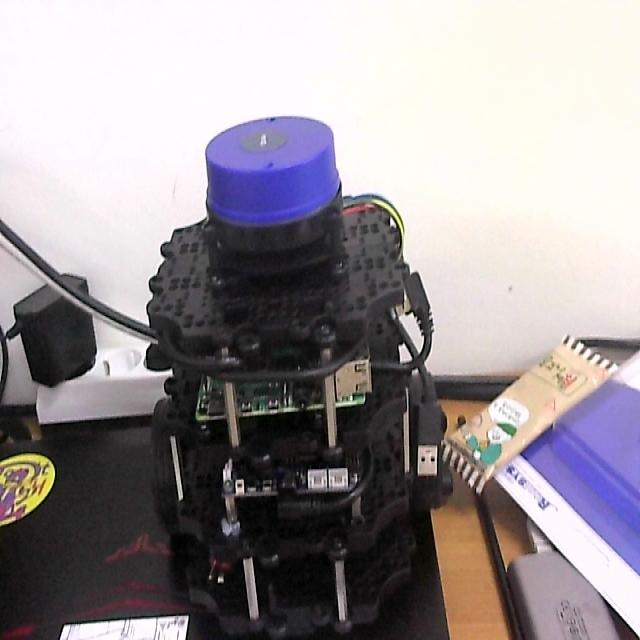turtle: (145, 110, 450, 640)
